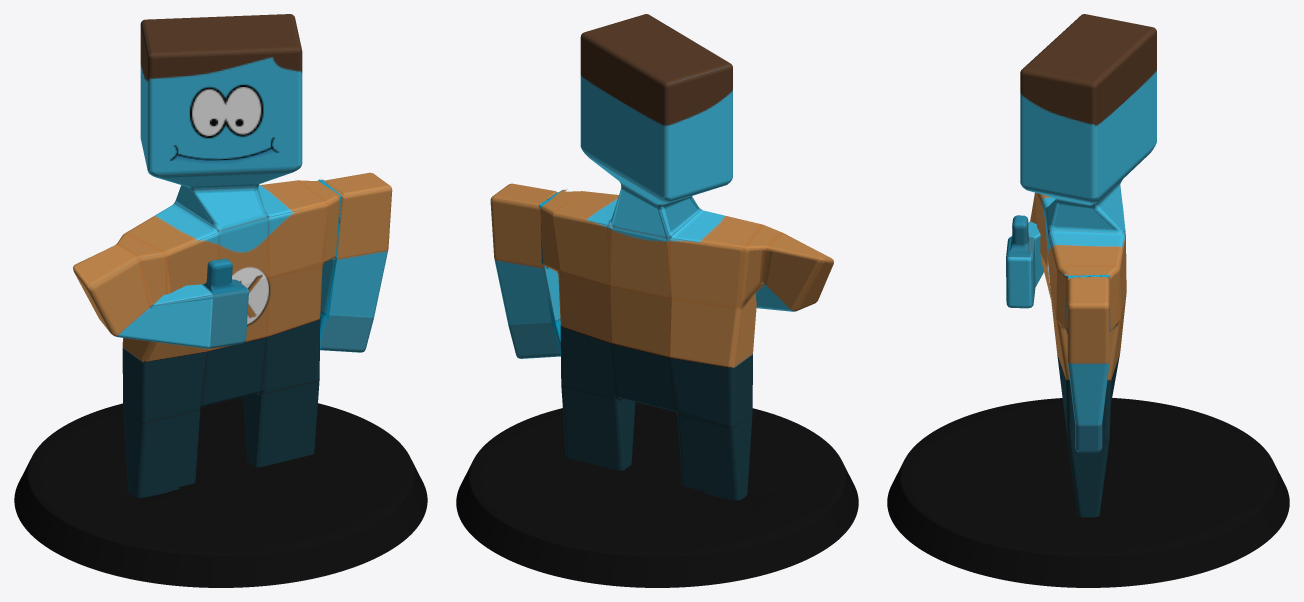
The model's file is kBert_thumbsup_bevel.obj.
3 views of the same model, side by side, from view 1: azimuth 30°, elevation 25°; view 2: azimuth 150°, elevation 25°; view 3: azimuth 270°, elevation 25° (orthographic). The views are drawn at different scales.
Visible parts, largest first — view 1: kBert_Cube, Cylinder_Cylinder.001; view 2: kBert_Cube, Cylinder_Cylinder.001; view 3: Cylinder_Cylinder.001, kBert_Cube.
Part boxes in pixels (x1,y1,x2,y2): kBert_Cube: (73,14,392,497); Cylinder_Cylinder.001: (14,397,427,587); kBert_Cube: (490,14,833,500); Cylinder_Cylinder.001: (456,402,858,587); Cylinder_Cylinder.001: (887,398,1289,587); kBert_Cube: (1006,14,1156,517).
Size of the model in its own units: 6.17 by 7.73 by 6.17.
Materials: 2 (1 with a texture image).
